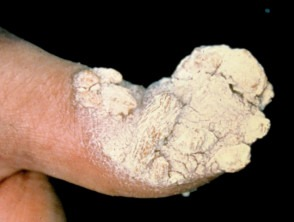Warts: (72, 36, 276, 188)
